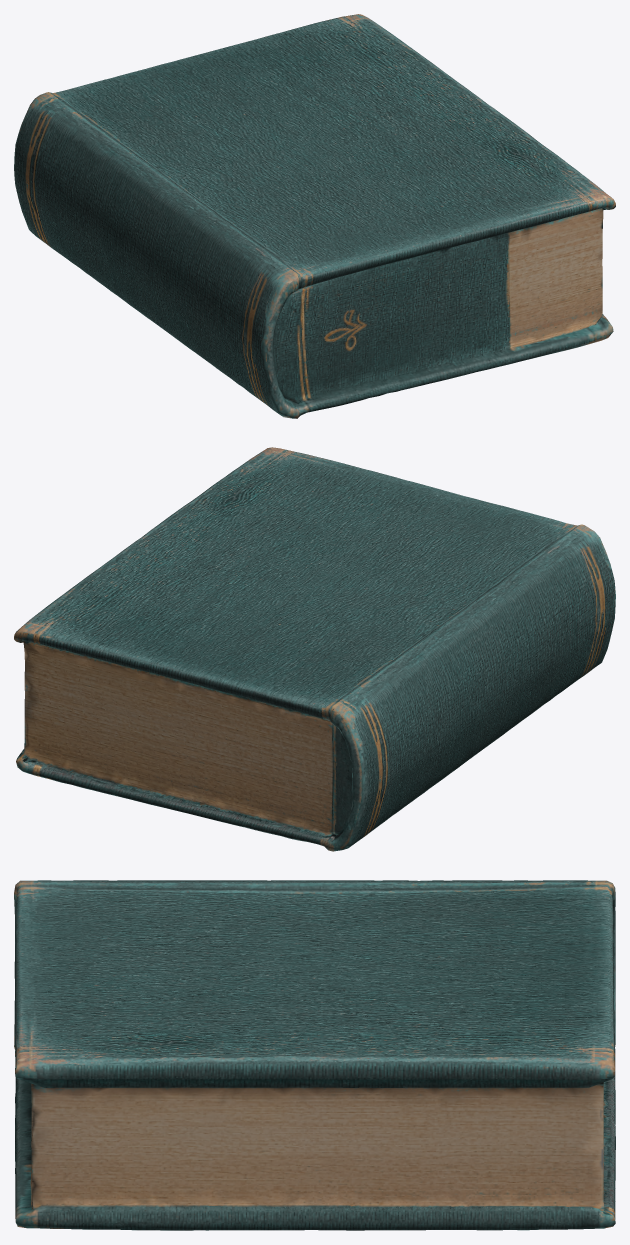
The model's file is Prop_Book2.fbx.
3 views of the same model, one above another, from view 1: azimuth 30°, elevation 25°; view 2: azimuth 150°, elevation 25°; view 3: azimuth 270°, elevation 25° (orthographic). The views are drawn at different scales.
Parts seen in each view (by area): view 1: texture_mapping; view 2: texture_mapping; view 3: texture_mapping.
Boxes of the visible parts, box(x1,y1,x2,y2) form: texture_mapping: box(14, 14, 615, 418); texture_mapping: box(14, 447, 615, 851); texture_mapping: box(14, 880, 615, 1230).
Size of the model in its own units: 0.7999 by 1 by 0.3234.
Materials: 1 (1 with a texture image).
